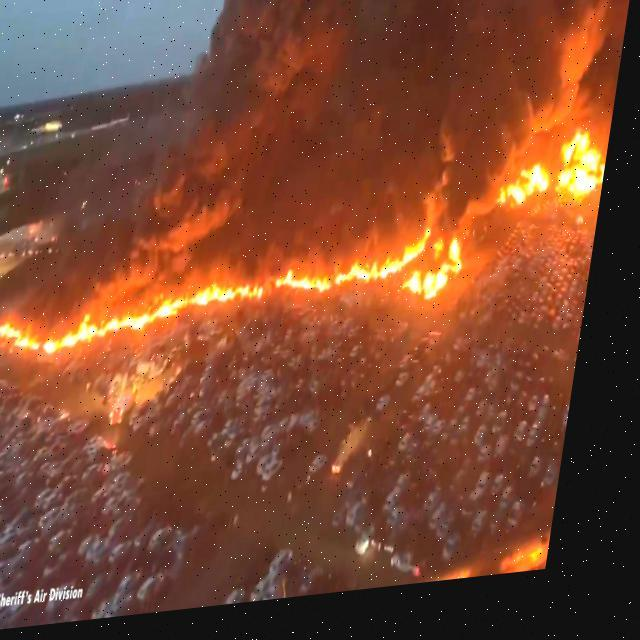Fire: (2, 288, 274, 360), (284, 236, 439, 300), (412, 282, 434, 308)
